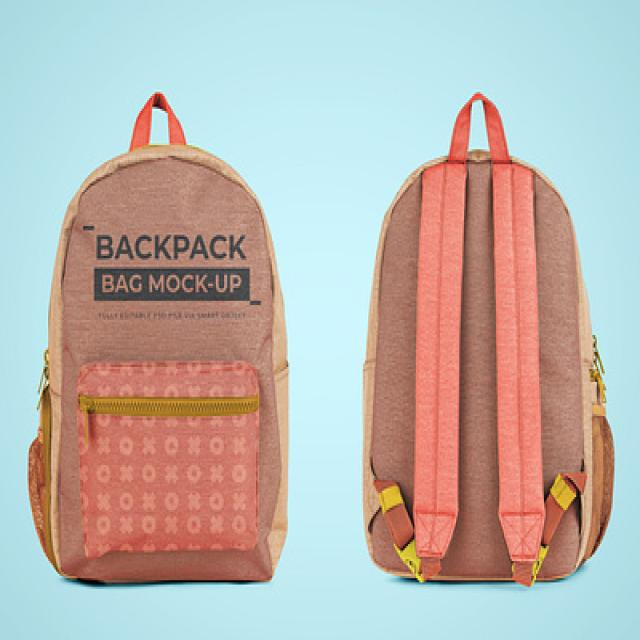backpack: (29, 92, 296, 594), (361, 91, 615, 586)
